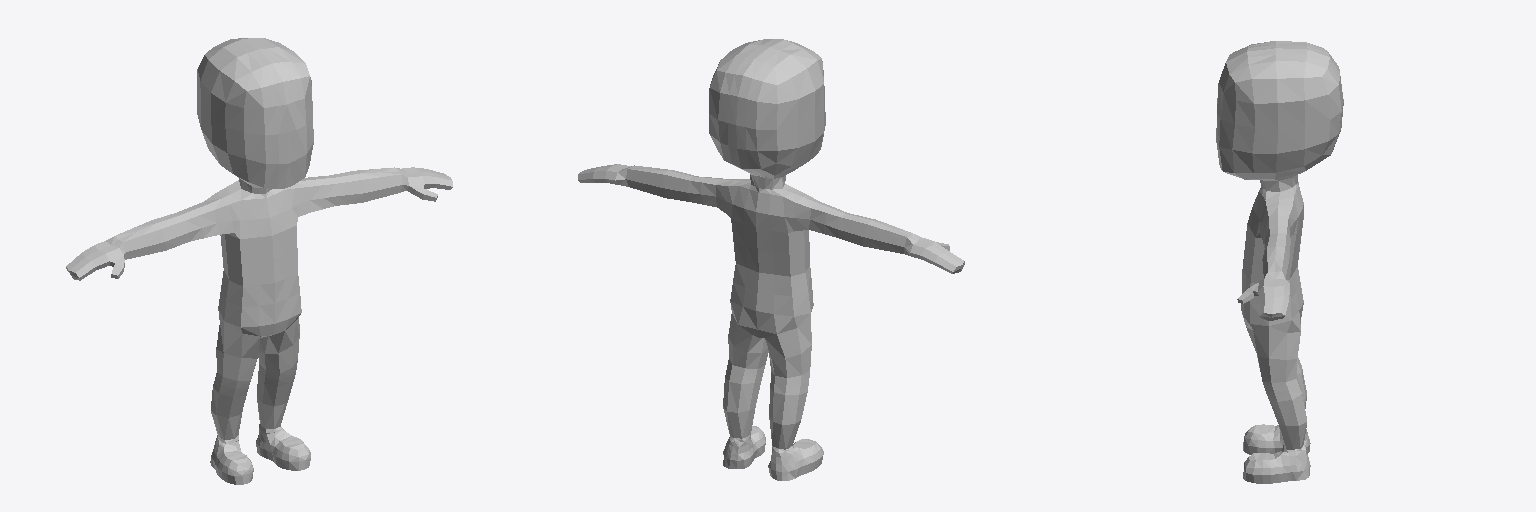
File: char.obj
The picture shows the model from 3 angles: view 1: azimuth 30°, elevation 25°; view 2: azimuth 150°, elevation 25°; view 3: azimuth 270°, elevation 25°; orthographic projection.
Visible parts, largest first — view 1: characterMedium; view 2: characterMedium; view 3: characterMedium.
Boxes of the visible parts, <box> form: characterMedium: <box>66,38,452,484</box>; characterMedium: <box>578,39,964,480</box>; characterMedium: <box>1216,41,1343,483</box>.
Size of the model in its own units: 3.62 by 3.76 by 1.05.